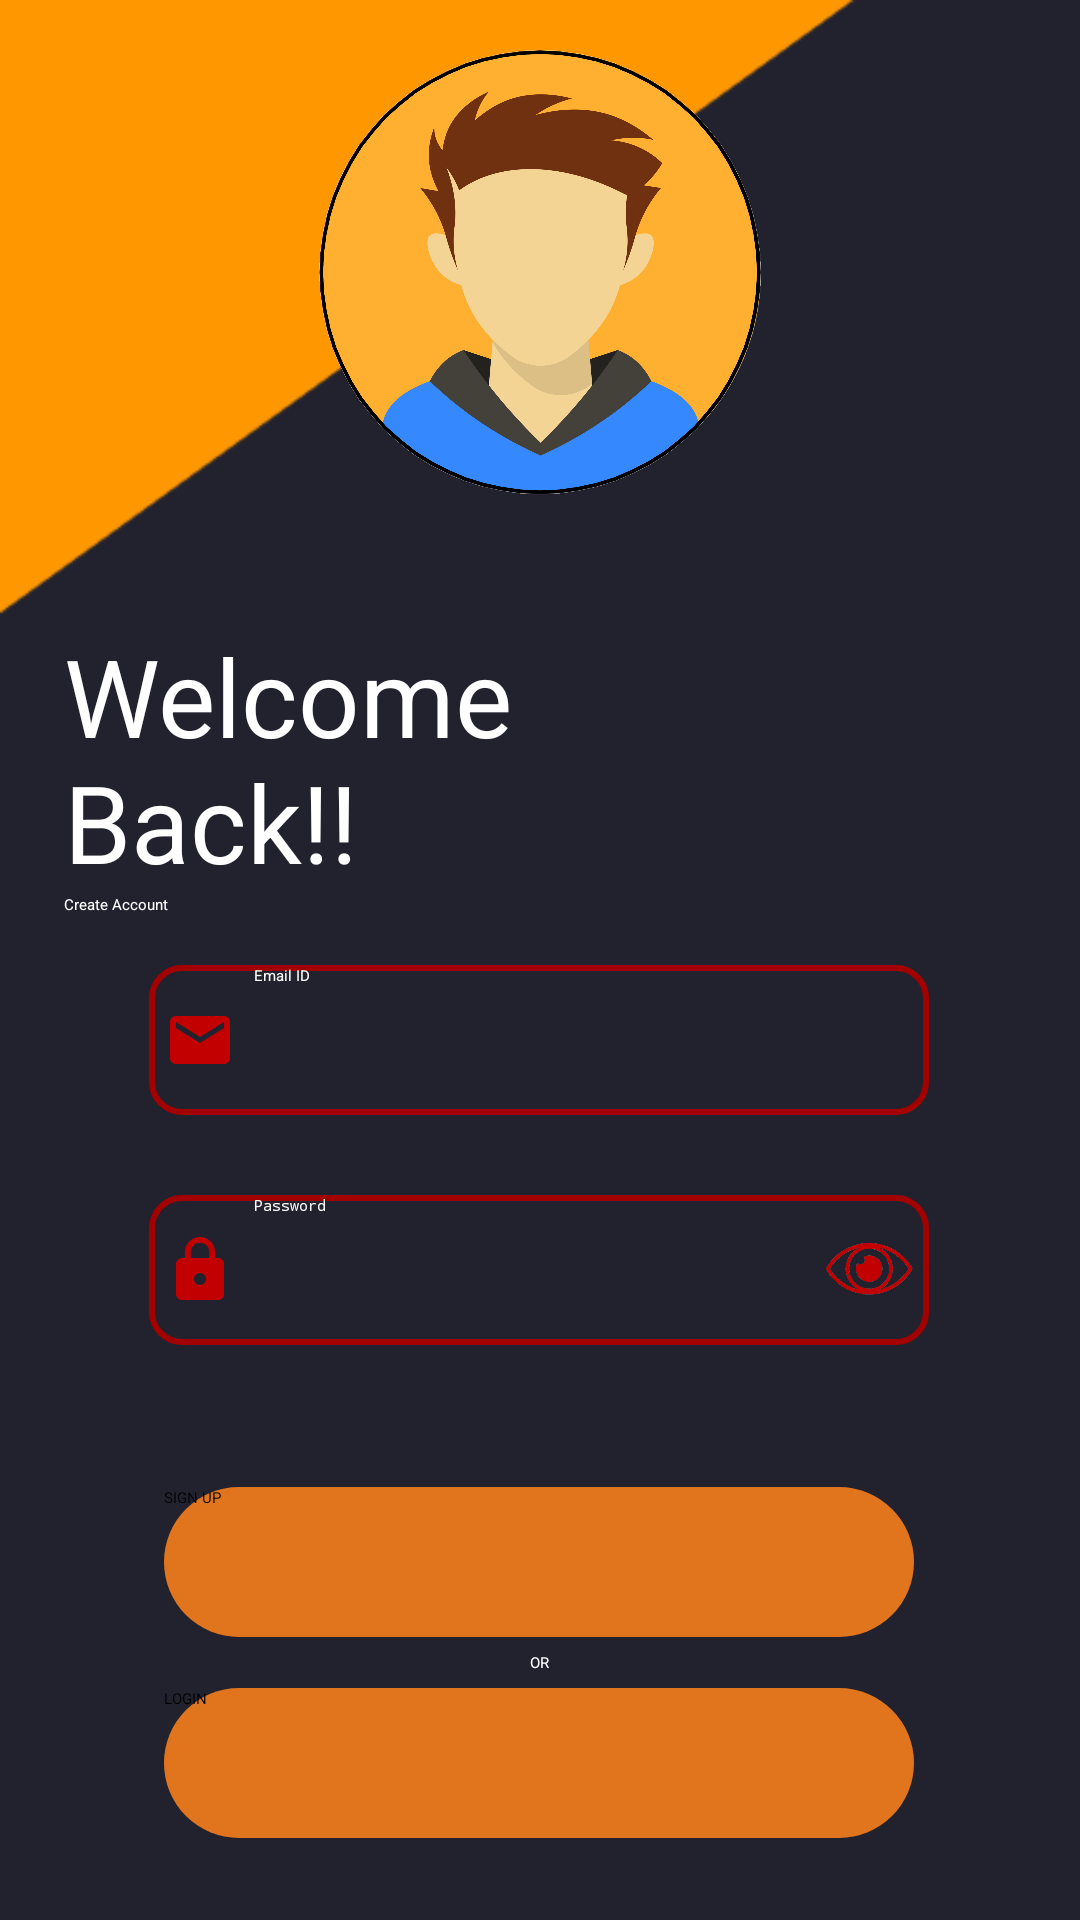

Where to tap for icons on this 1080 x 1920 app screen, as [x,y]:
eye open: [869,1269]
lock: [200,1268]
